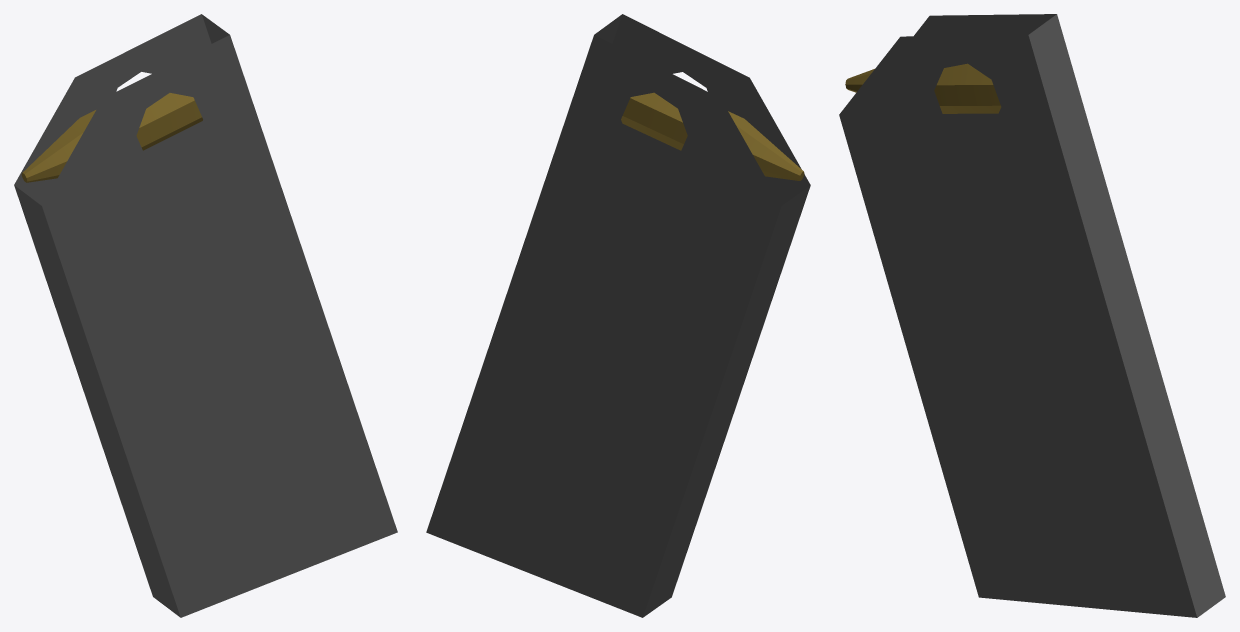
The model's file is FullMagazine.fbx.
The picture shows the model from 3 angles, left to right: view 1: azimuth 30°, elevation 25°; view 2: azimuth 150°, elevation 25°; view 3: azimuth 330°, elevation 25°; orthographic projection.
Visible parts, largest first — view 1: Circle.008; view 2: Circle.008; view 3: Circle.008.
Boxes of the visible parts, x1=… form: Circle.008: x1=14, y1=14, x2=397, y2=617; Circle.008: x1=426, y1=14, x2=810, y2=617; Circle.008: x1=839, y1=14, x2=1225, y2=617.
Size of the model in its own units: 1.26 by 1.9 by 0.1718.
